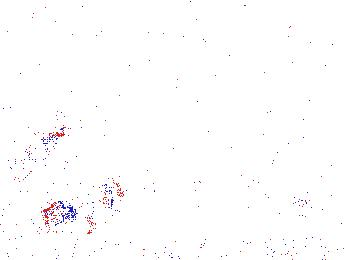flame jellyfish: (44, 173, 123, 227), (1, 124, 65, 186), (261, 154, 318, 214)
